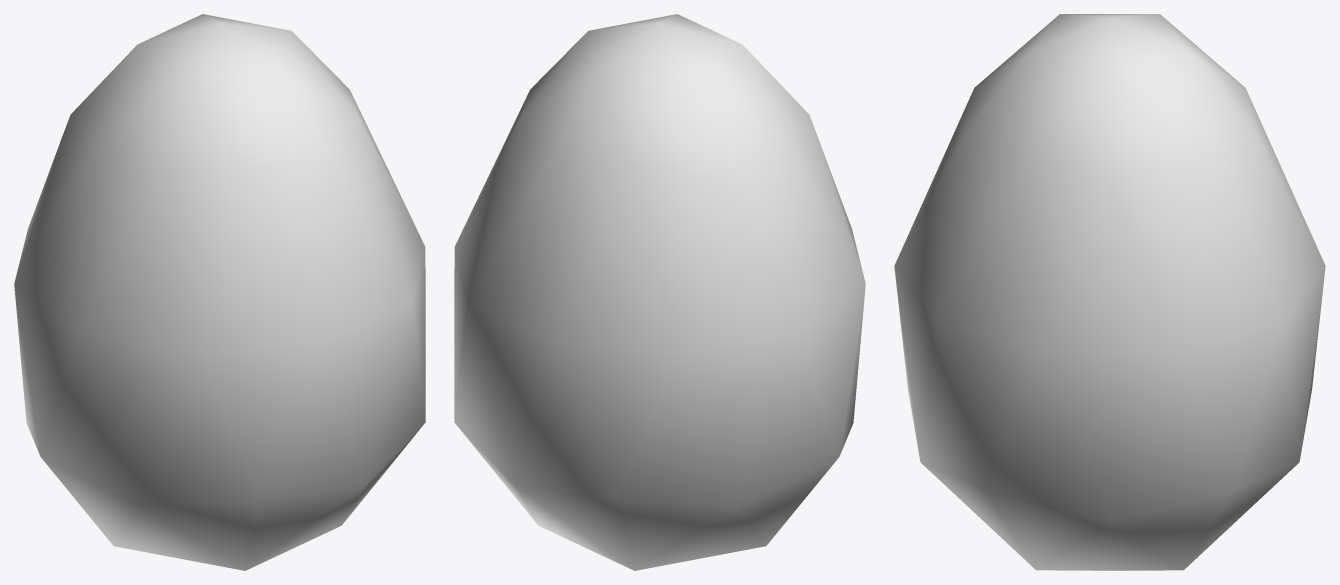
The model's file is Egg.fbx.
The picture shows the model from 3 angles, left to right: view 1: azimuth 30°, elevation 25°; view 2: azimuth 150°, elevation 25°; view 3: azimuth 270°, elevation 25°; orthographic projection. The views are drawn at different scales.
Visible parts, largest first — view 1: Egg; view 2: Egg; view 3: Egg.
Boxes of the visible parts, x1=… form: Egg: x1=14, y1=14, x2=425, y2=570; Egg: x1=454, y1=14, x2=865, y2=570; Egg: x1=894, y1=14, x2=1325, y2=570.
Bounding box in the file's own units: 18.75 × 27.42 × 19.37.
